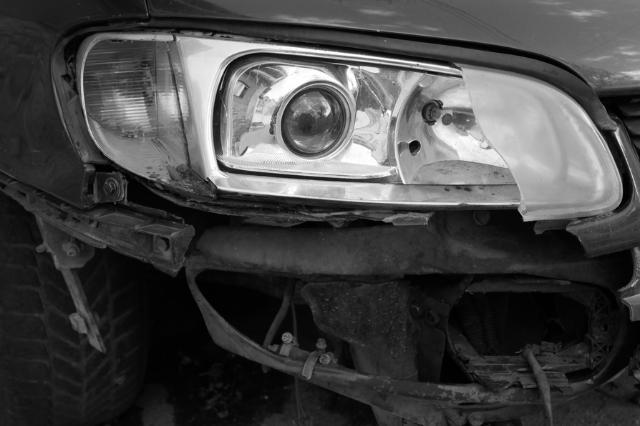Bumper: (67, 212, 640, 426)
Light: (59, 27, 640, 222)
